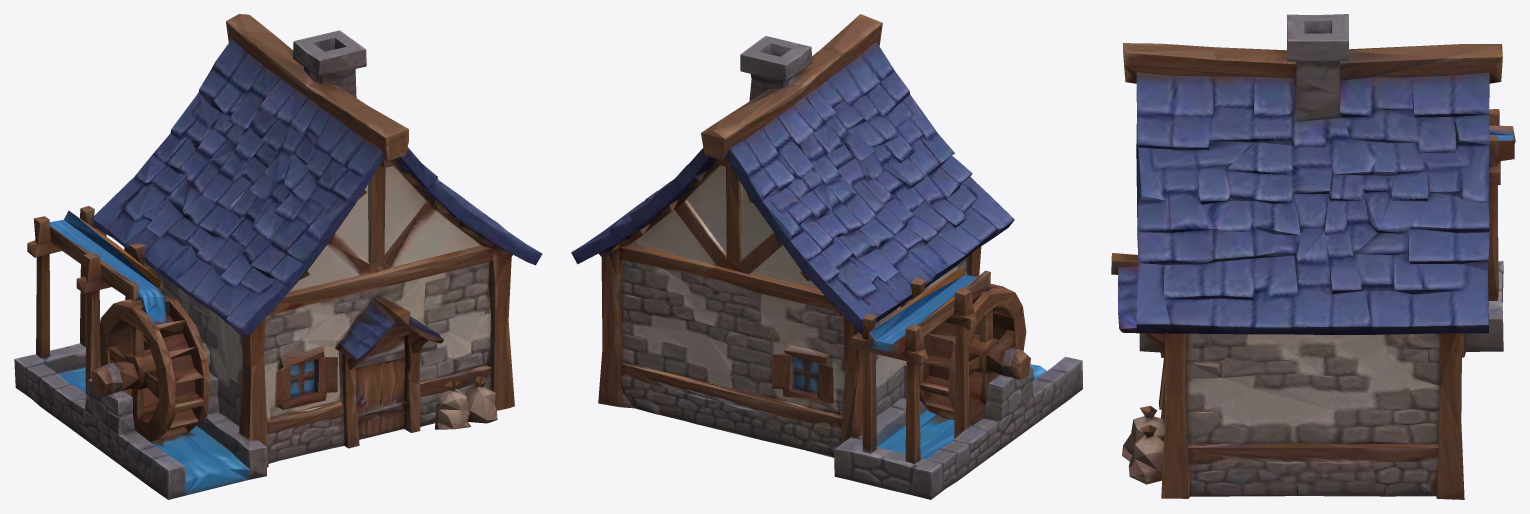
File: oc_watermill.glb
3 views of the same model, side by side, from view 1: azimuth 30°, elevation 25°; view 2: azimuth 150°, elevation 25°; view 3: azimuth 270°, elevation 25° (orthographic). The views are drawn at different scales.
Visible parts, largest first — view 1: W_watermill_small; view 2: W_watermill_small; view 3: W_watermill_small.
Part boxes in pixels (x1,y1,x2,y2): W_watermill_small: [14, 14, 542, 499]; W_watermill_small: [571, 14, 1082, 499]; W_watermill_small: [1111, 14, 1515, 499].
Size of the model in its own units: 8.98 by 7.74 by 7.01.
1 material, 1 textured.
